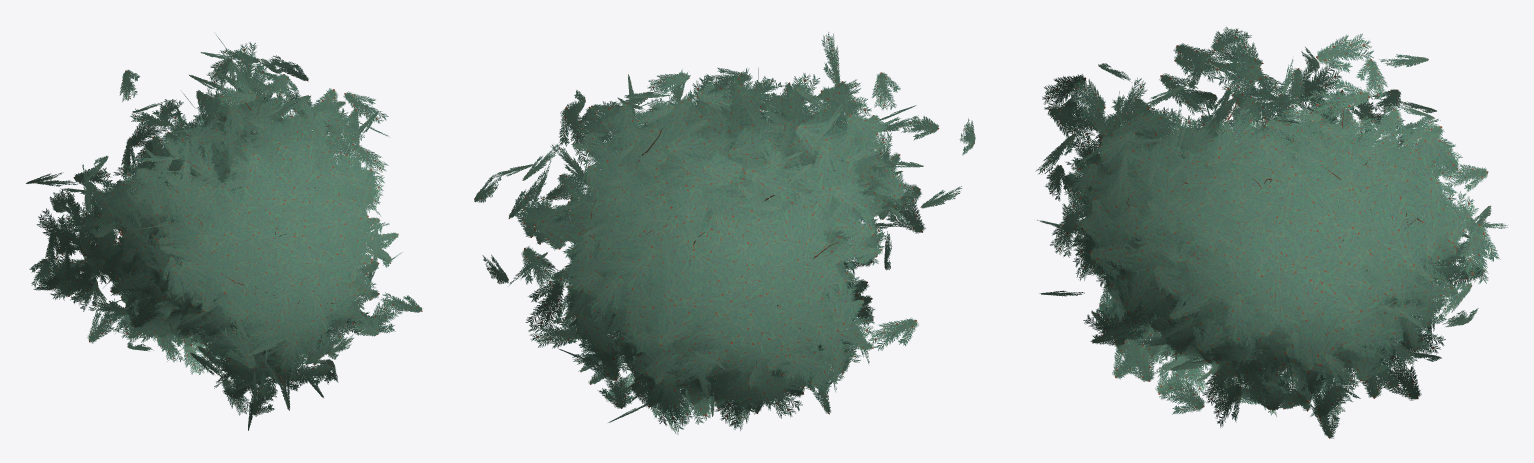
File: JU1_Juniper_LowDense_1.2m.glb
3 renders of one model, left to right at view 1: azimuth 30°, elevation 25°; view 2: azimuth 150°, elevation 25°; view 3: azimuth 270°, elevation 25°, orthographic. The views are drawn at different scales.
Visible parts, largest first — view 1: JU1_leaves; view 2: JU1_leaves; view 3: JU1_leaves.
Boxes of the visible parts, x1,y1,x2,y2 form: JU1_leaves: [26, 32, 422, 430]; JU1_leaves: [474, 32, 975, 434]; JU1_leaves: [1035, 27, 1507, 438].
Size of the model in its own units: 1.36 by 1.28 by 1.43.
2 materials, 2 textured.
